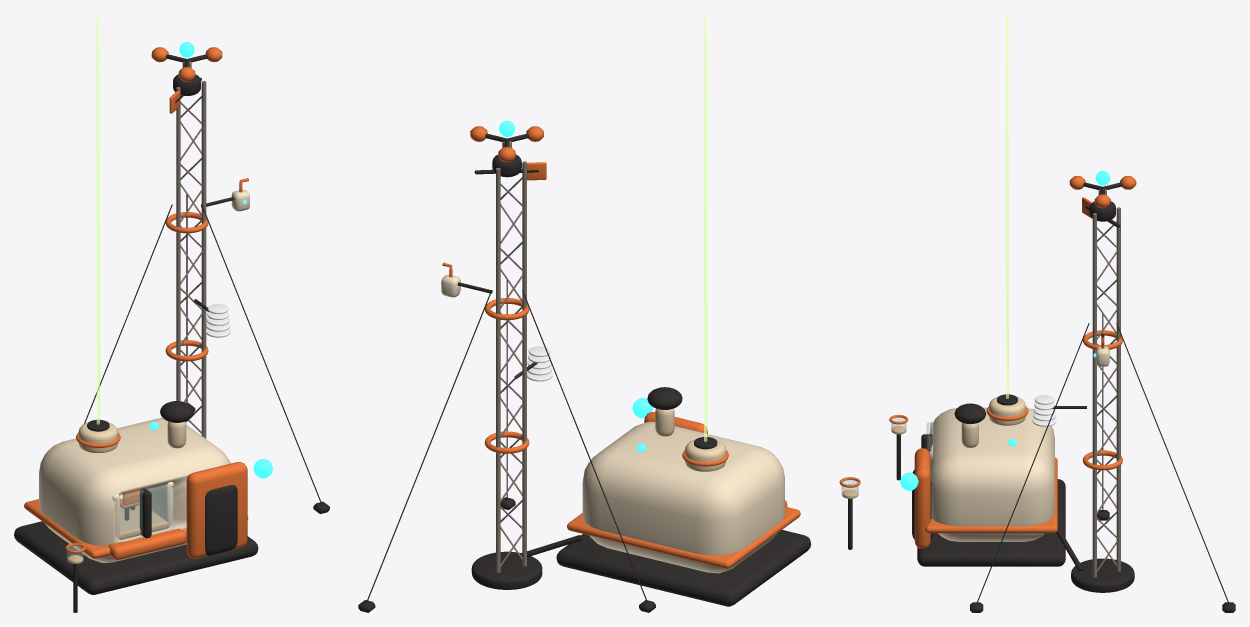
The model's file is weather.glb.
3 views of the same model, side by side, from view 1: azimuth 30°, elevation 25°; view 2: azimuth 150°, elevation 25°; view 3: azimuth 270°, elevation 25° (orthographic). The views are drawn at different scales.
Parts seen in each view (by area): view 1: Cube.001, Cube, Cube.011, Cylinder.014, Cube.015, Cylinder.005, Cube.006, Cube.002, Cube.003, Cylinder.008, Cube.010; view 2: Cube.001, Cube, Cylinder.014, Cube.011, Cylinder.005, Cube.006, Cylinder.008; view 3: Cube.001, Cube, Cylinder.014, Cube.011, Cylinder.005, Cube.006, Cylinder.008, Cube.010.
Boxes of the visible parts, x1,y1,x2,y2 form: Cube.001: (39,189,249,562); Cube: (14,54,329,612); Cube.011: (24,47,248,559); Cylinder.014: (176,61,206,438); Cube.015: (67,483,174,563); Cylinder.005: (96,14,99,424); Cube.006: (78,421,186,452); Cube.002: (112,482,173,538); Cube.003: (118,502,169,539); Cylinder.008: (205,304,230,337); Cube.010: (150,42,272,478); Cube.001: (441,274,784,573); Cube: (358,133,852,612); Cylinder.014: (496,141,526,572); Cube.011: (442,126,860,568); Cylinder.005: (704,14,707,441); Cube.006: (655,408,726,471); Cylinder.008: (527,346,552,381); Cube.001: (929,346,1109,541); Cube: (896,182,1235,612); Cylinder.014: (1092,189,1120,577); Cube.011: (889,176,1136,548); Cylinder.005: (1006,14,1008,398); Cube.006: (961,397,1025,447); Cylinder.008: (1032,395,1056,426); Cube.010: (900,170,1110,490).
Size of the model in its own units: 1.24 by 2.09 by 1.31.
